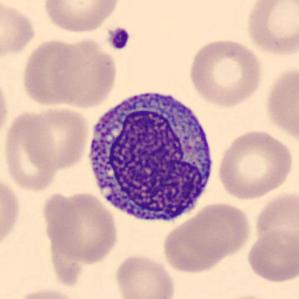Monocyte: (82, 85, 220, 232)
Platelets: (106, 26, 132, 52)
RBC: (159, 202, 247, 274), (214, 127, 295, 201), (42, 190, 120, 265), (186, 36, 265, 108), (50, 34, 119, 110), (19, 36, 88, 108), (2, 109, 59, 193), (21, 104, 91, 171), (251, 188, 298, 261), (243, 0, 298, 57), (244, 226, 298, 284), (262, 62, 299, 145), (112, 252, 177, 299), (40, 0, 122, 35), (0, 0, 38, 62), (0, 172, 22, 254), (10, 286, 85, 299), (0, 71, 12, 146), (214, 293, 284, 299)
